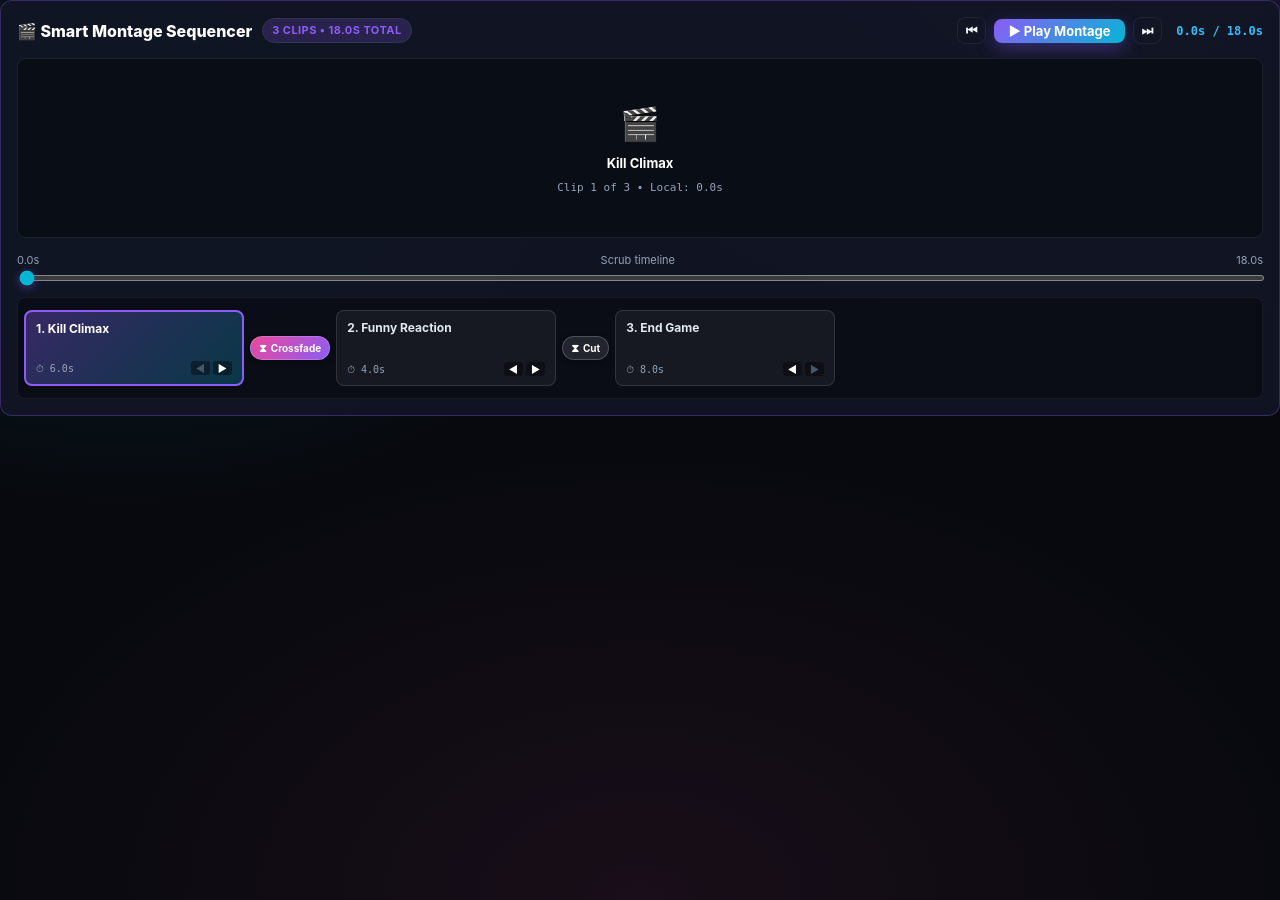
Test: Empirical Challenge Suite: Milestone M4 (Montage Timeline & Phone Simulator) › Section 4: Transitions & Multi-Clip Preview Engine › tests transition effect overlay HUD rendering during transition window
Set the slider with test id "montage-scrubber" to "5.8" at (423, 278), box [19, 274, 1265, 280]
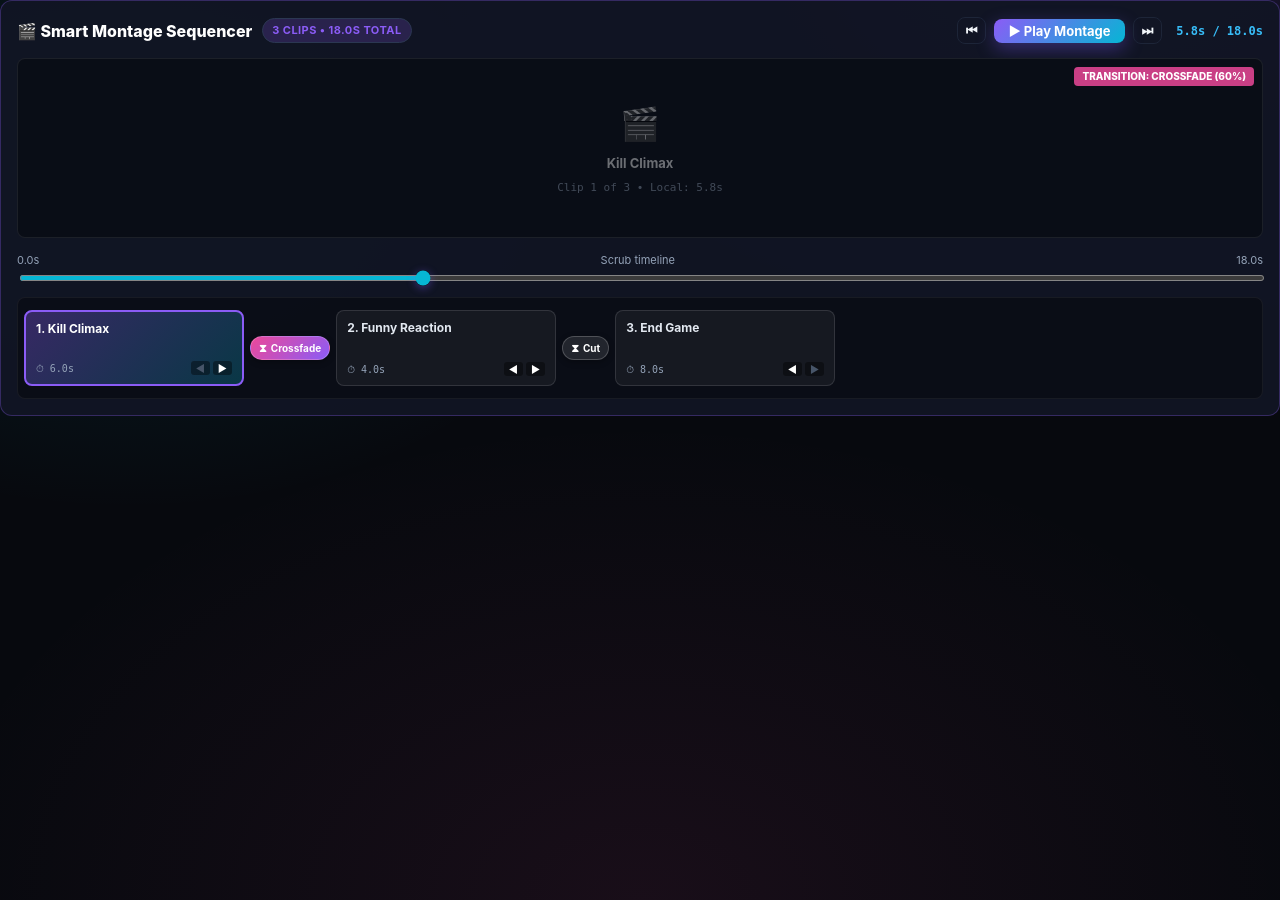
Now the text "Transition: crossfade (60%)" is shown, box [1074, 67, 1254, 86]
Now the text with test id "transition-effect-overlay" shows "crossfade", box [1151, 70, 1212, 82]
Set the slider with test id "montage-scrubber" to "3" at (232, 278), box [19, 274, 1265, 280]
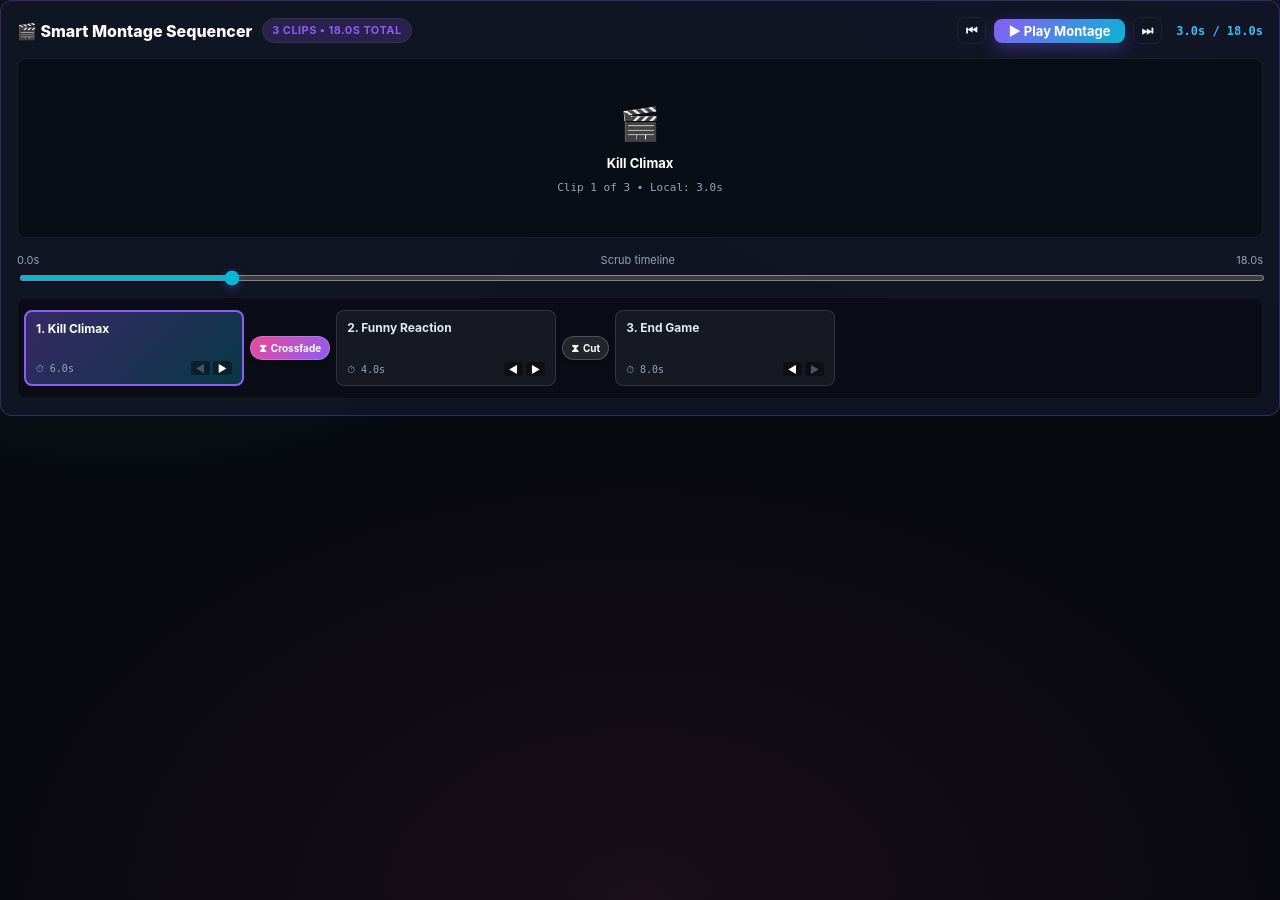
Now the text with test id "transition-effect-overlay" is gone
